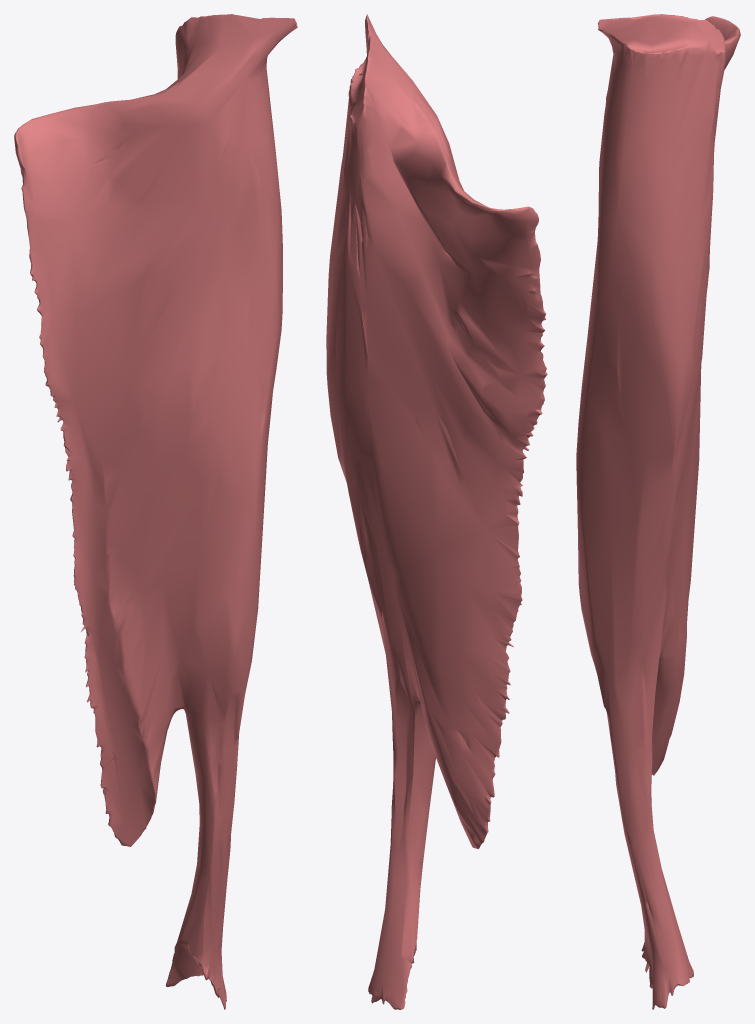
3 renders of one model, left to right at view 1: azimuth 30°, elevation 25°; view 2: azimuth 150°, elevation 25°; view 3: azimuth 270°, elevation 25°, orthographic. The views are drawn at different scales.
Visible parts, largest first — view 1: FJ1403; view 2: FJ1403; view 3: FJ1403.
Part boxes in pixels (x1=…): FJ1403: x1=14, y1=14, x2=297, y2=1009; FJ1403: x1=326, y1=14, x2=547, y2=1009; FJ1403: x1=576, y1=14, x2=740, y2=1009.
Bounding box in the file's own units: 0.098 × 0.3953 × 0.0583.
